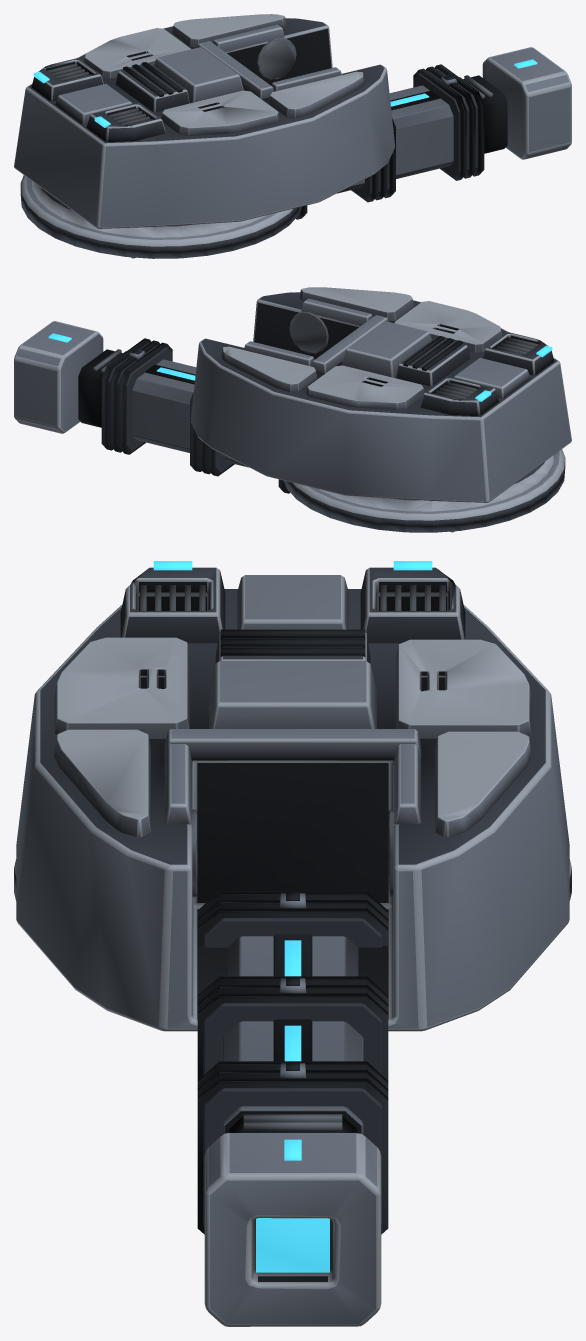
File: tempest1.glb
3 views of the same model, one above another, from view 1: azimuth 30°, elevation 25°; view 2: azimuth 150°, elevation 25°; view 3: azimuth 270°, elevation 25° (orthographic). The views are drawn at different scales.
Visible parts, largest first — view 1: housing, barrel, ring; view 2: housing, barrel, ring; view 3: housing, barrel.
Boxes of the visible parts, box(x1,y1,x2,y2) form: housing: box(14, 14, 394, 228); barrel: box(131, 47, 571, 258); ring: box(20, 175, 301, 258); housing: box(191, 287, 571, 502); barrel: box(14, 321, 454, 532); ring: box(284, 449, 565, 532); housing: box(16, 561, 569, 1031); barrel: box(197, 891, 388, 1326).
Size of the model in its own units: 32.9 by 9.82 by 15.81.
